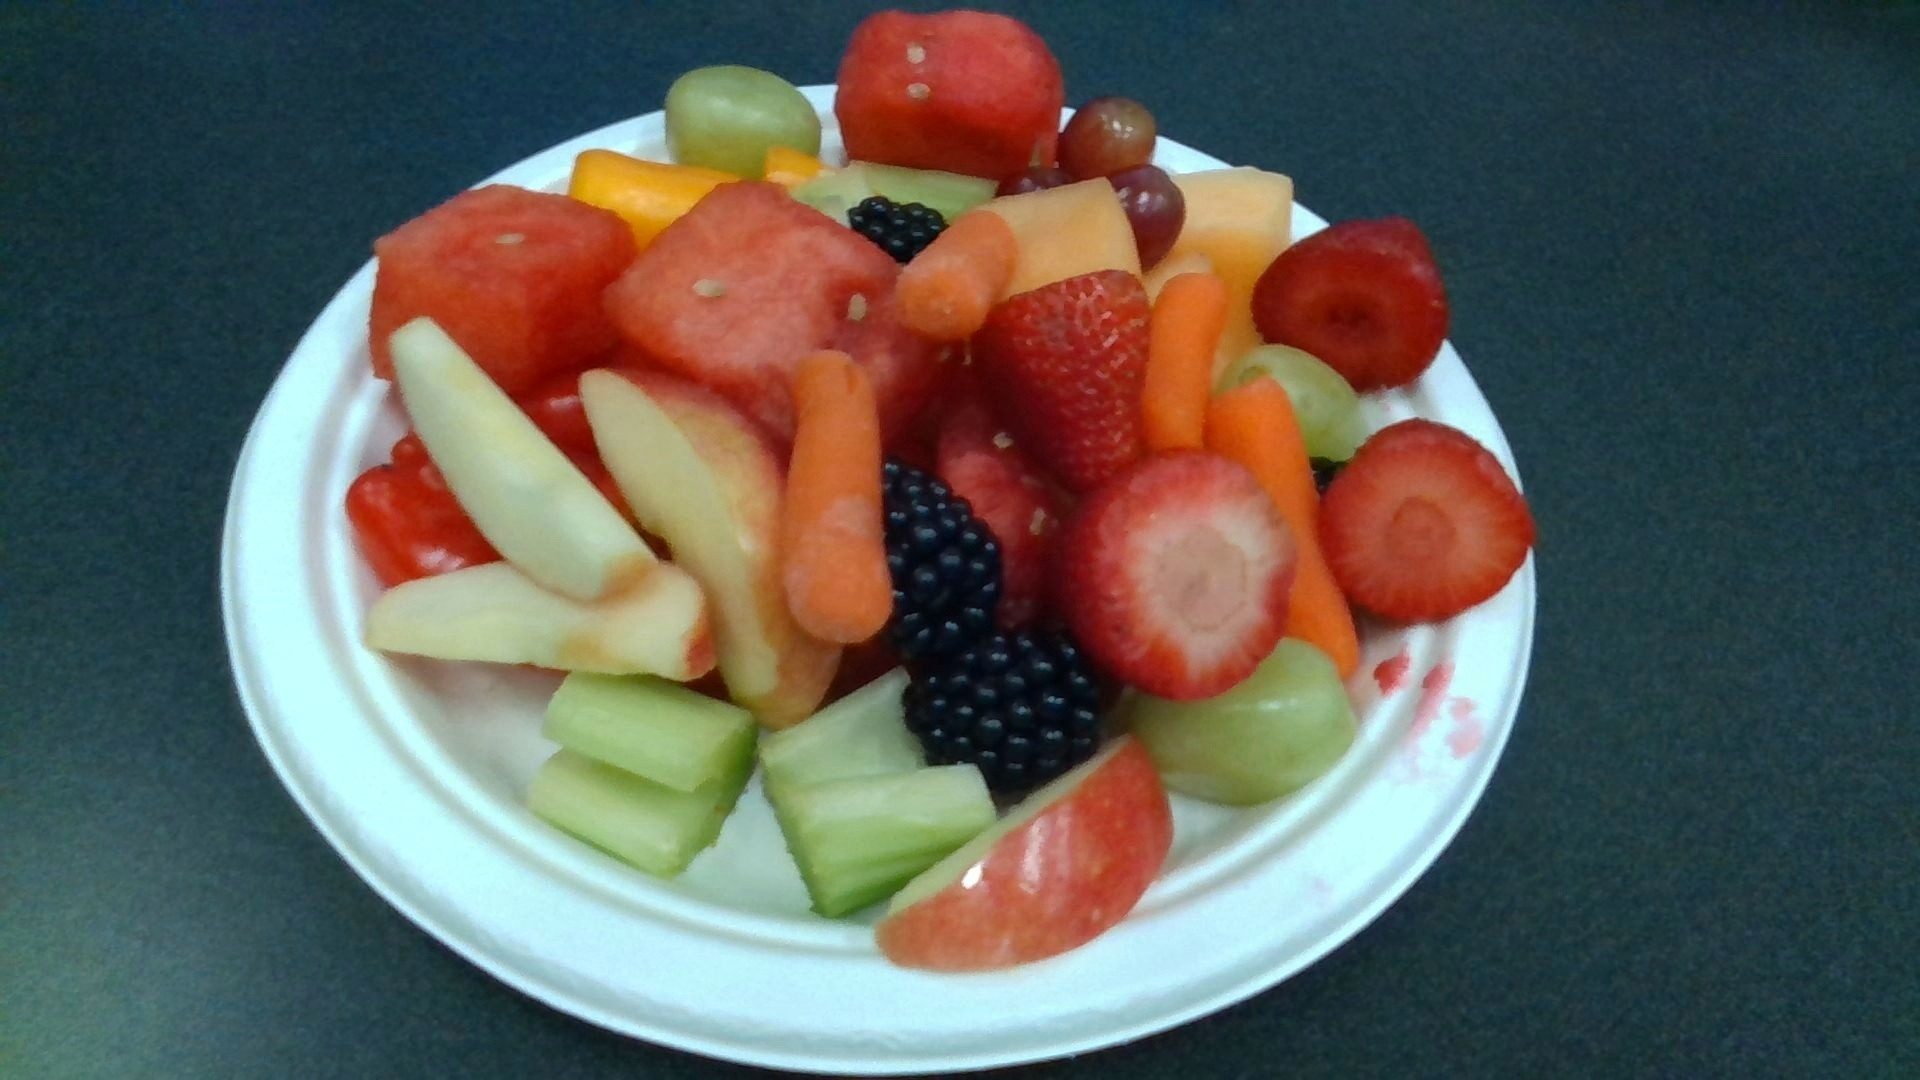apple: (579, 371, 839, 717), (389, 316, 657, 601), (882, 735, 1174, 973), (365, 560, 719, 680)
blackberry: (905, 636, 1122, 783), (880, 454, 1002, 646)
cantalope: (1130, 164, 1294, 375), (980, 175, 1139, 303)
carrot: (1204, 378, 1360, 675), (782, 351, 890, 641), (890, 211, 1019, 335), (1149, 276, 1225, 455)
celery: (754, 673, 994, 913), (520, 671, 756, 872)
grape_green: (1137, 641, 1356, 800), (665, 65, 822, 178)
grape_purple: (1062, 96, 1156, 179)
melon: (603, 183, 899, 440), (369, 186, 637, 381), (829, 11, 1062, 186)
strawberry: (1058, 451, 1292, 698), (1320, 415, 1534, 620), (975, 273, 1150, 488), (1250, 218, 1444, 396)
